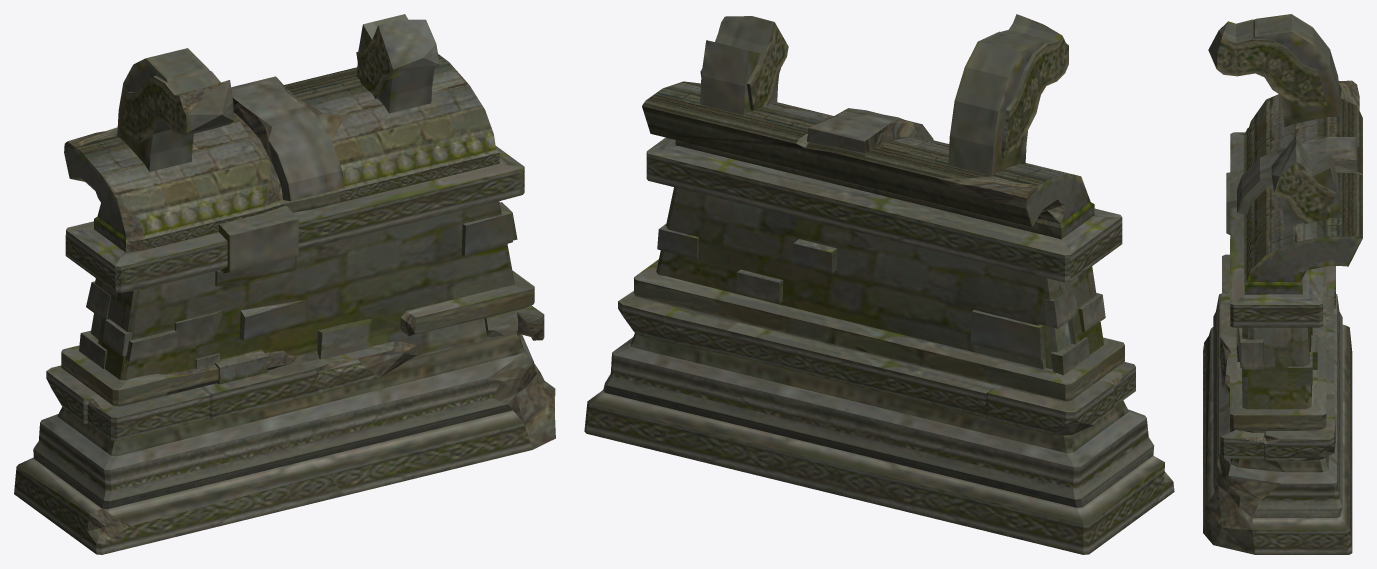
File: S2_Build_XSC065.FBX
3 views of the same model, side by side, from view 1: azimuth 30°, elevation 25°; view 2: azimuth 150°, elevation 25°; view 3: azimuth 270°, elevation 25° (orthographic). The views are drawn at different scales.
Visible parts, largest first — view 1: S2_Build_XSC065; view 2: S2_Build_XSC065; view 3: S2_Build_XSC065.
Part boxes in pixels (<box>): S2_Build_XSC065: <box>14,14,555,554</box>; S2_Build_XSC065: <box>584,14,1174,554</box>; S2_Build_XSC065: <box>1203,14,1362,554</box>.
Size of the model in its own units: 125 by 107 by 41.2.
